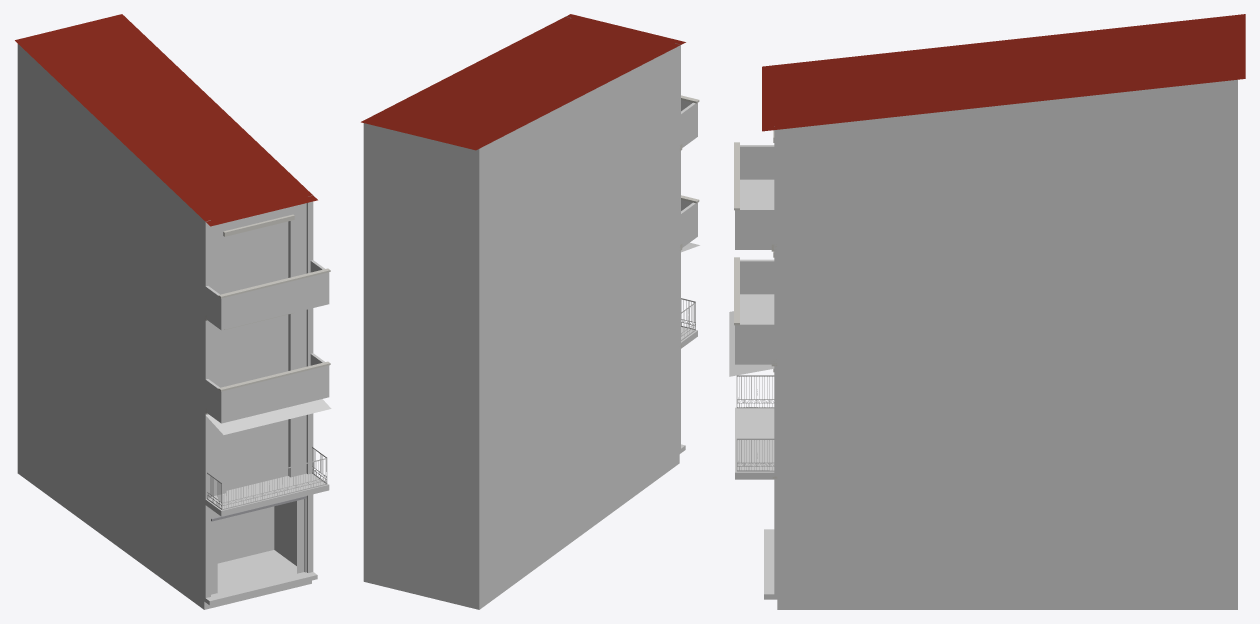
3 renders of one model, left to right at view 1: azimuth 30°, elevation 25°; view 2: azimuth 150°, elevation 25°; view 3: azimuth 270°, elevation 25°, orthographic. The views are drawn at different scales.
Visible parts, largest first — view 1: TH_D12_C_07_LOD0; view 2: TH_D12_C_07_LOD0; view 3: TH_D12_C_07_LOD0.
Part boxes in pixels (<box>): TH_D12_C_07_LOD0: <box>15,14,331,609</box>; TH_D12_C_07_LOD0: <box>361,14,699,609</box>; TH_D12_C_07_LOD0: <box>729,14,1245,609</box>.
Size of what is drawn, in the model's own units: 4.06 by 15.26 by 13.45.
